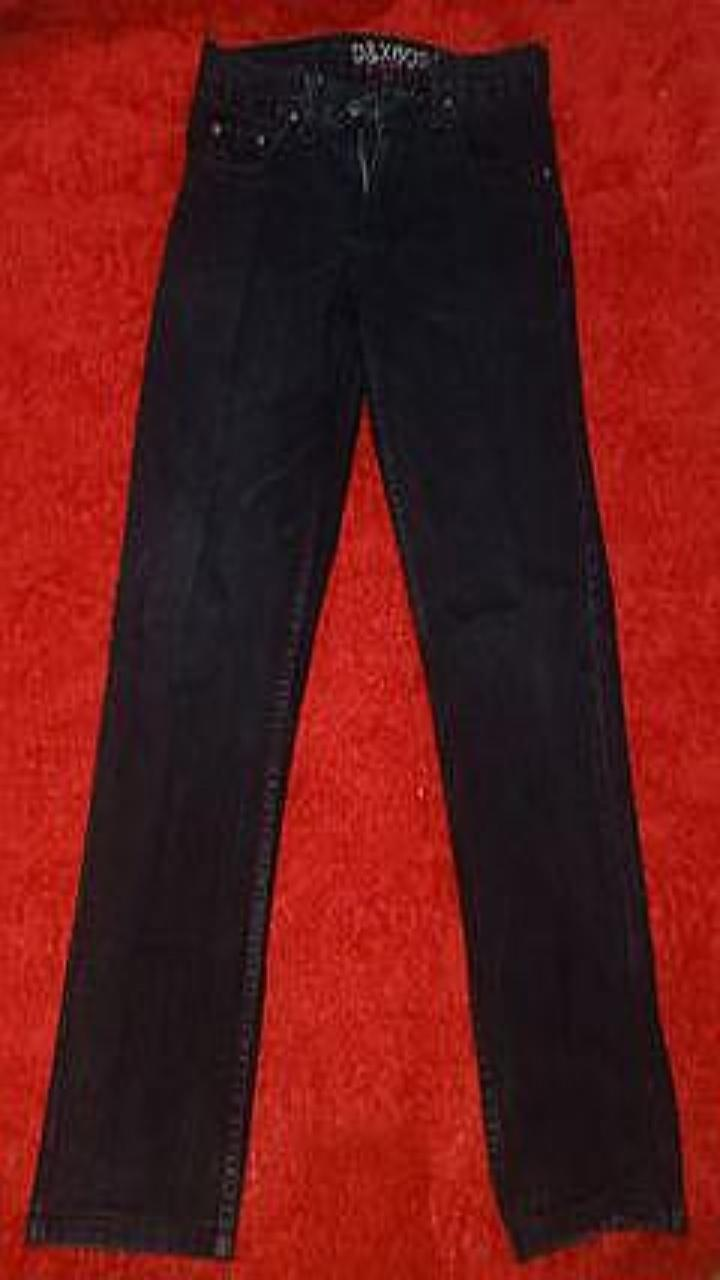Jeans: (26, 31, 686, 1259)
